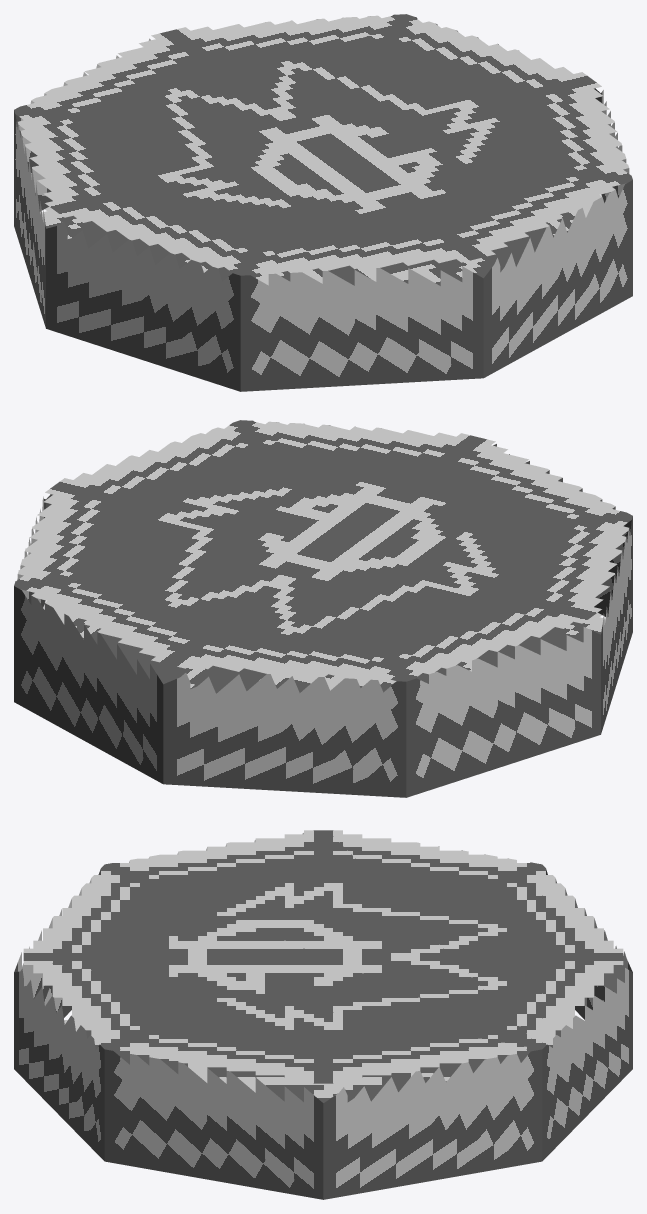
The model's file is Coin.fbx.
The picture shows the model from 3 angles, top to bottom: view 1: azimuth 30°, elevation 25°; view 2: azimuth 150°, elevation 25°; view 3: azimuth 270°, elevation 25°; orthographic projection. The views are drawn at different scales.
Visible parts, largest first — view 1: Cylinder; view 2: Cylinder; view 3: Cylinder.
Part boxes in pixels (box(x1,y1,x2,y2)): Cylinder: box(14, 14, 632, 391); Cylinder: box(14, 420, 632, 797); Cylinder: box(14, 830, 632, 1199).
Size of the model in its own units: 200 by 40 by 200.
Materials: 1 (1 with a texture image).
